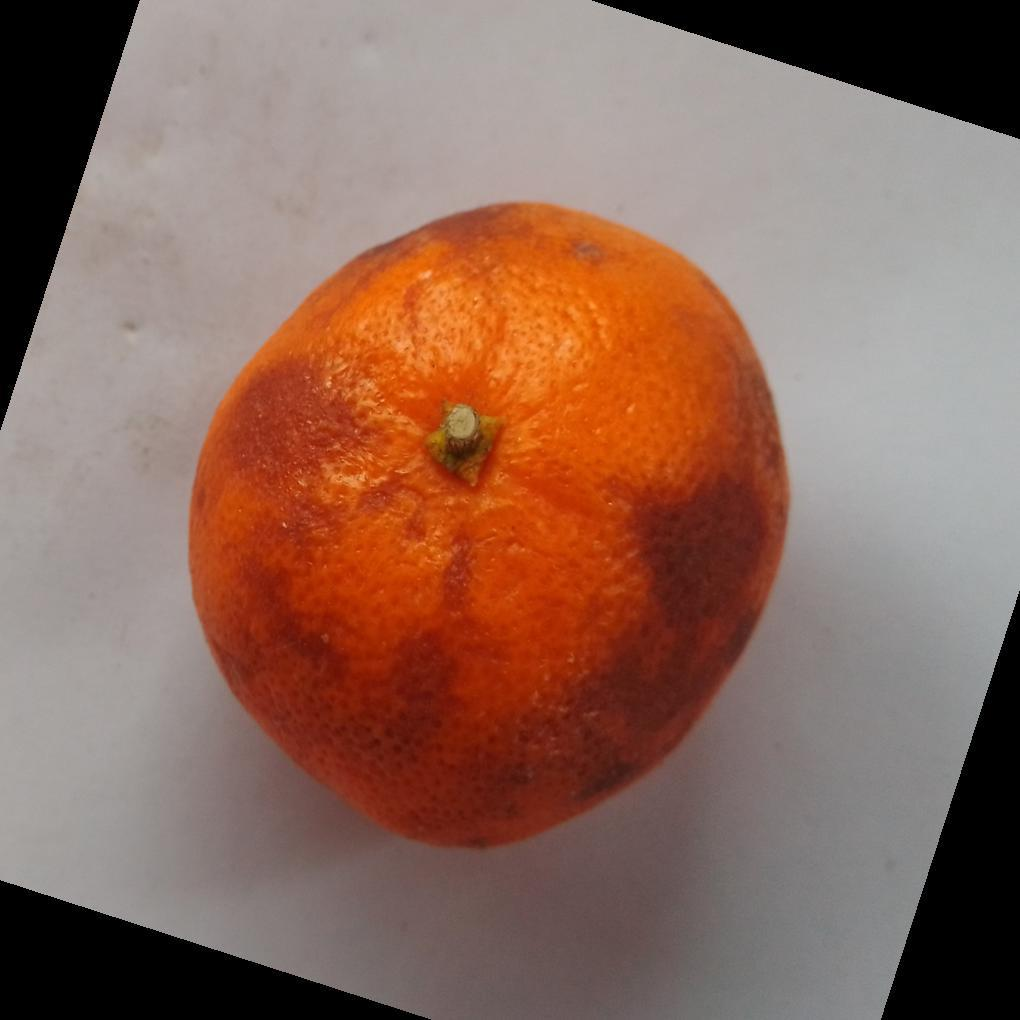FreshOrange: (185, 202, 792, 855)
